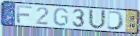2: (36, 6, 50, 26)
3: (72, 8, 87, 29)
D: (106, 10, 125, 31)
F: (16, 5, 34, 25)
G: (53, 8, 69, 27)
U: (88, 9, 107, 31)
